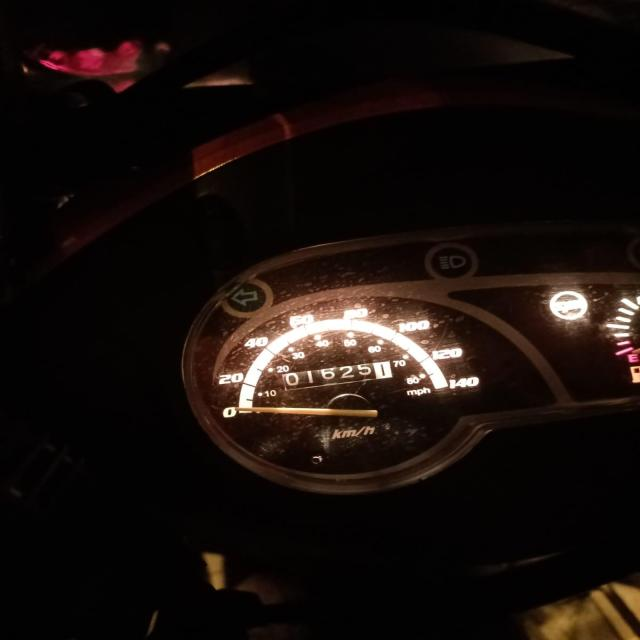odometer: (275, 359, 395, 390)
